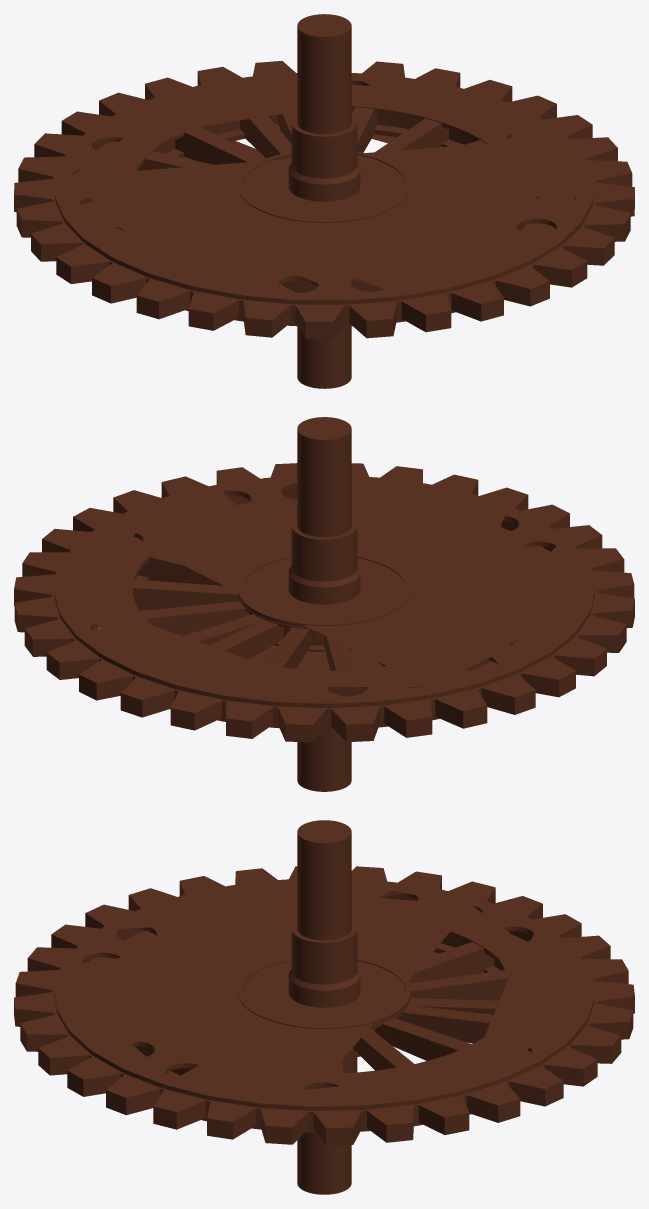
File: Temporary Big Gear.fbx
The picture shows the model from 3 angles, top to bottom: view 1: azimuth 30°, elevation 25°; view 2: azimuth 150°, elevation 25°; view 3: azimuth 270°, elevation 25°; orthographic projection.
Parts seen in each view (by area): view 1: Cylinder.002, Cylinder.001, Cylinder.004, Cylinder.003; view 2: Cylinder.002, Cylinder.001, Cylinder.004, Cylinder.003; view 3: Cylinder.002, Cylinder.001, Cylinder.004, Cylinder.003.
Boxes of the visible parts, bbox=[...] form: Cylinder.002: bbox=[14, 61, 634, 339]; Cylinder.001: bbox=[238, 14, 410, 222]; Cylinder.004: bbox=[139, 107, 524, 292]; Cylinder.003: bbox=[297, 326, 351, 388]; Cylinder.002: bbox=[14, 463, 634, 742]; Cylinder.001: bbox=[238, 417, 410, 651]; Cylinder.004: bbox=[132, 552, 516, 696]; Cylinder.003: bbox=[238, 595, 351, 791]; Cylinder.002: bbox=[14, 866, 634, 1145]; Cylinder.001: bbox=[238, 820, 410, 1054]; Cylinder.004: bbox=[135, 935, 508, 1088]; Cylinder.003: bbox=[297, 998, 410, 1194].
Size of the model in its own units: 230 by 144 by 230.
